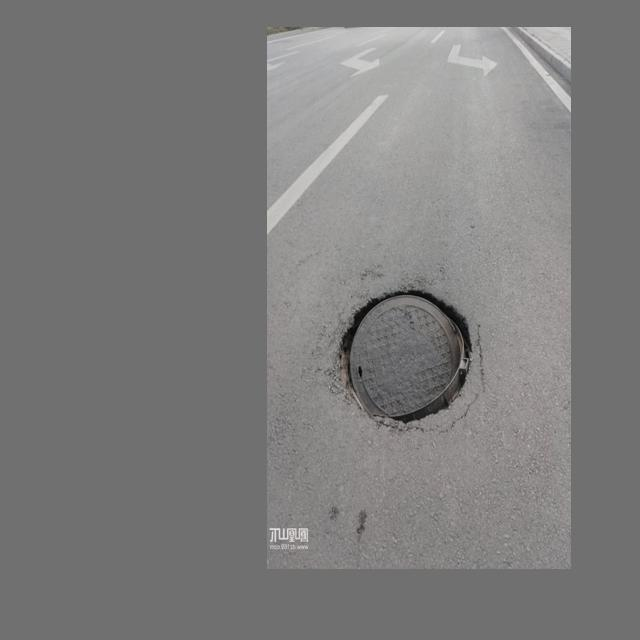circle: (324, 278, 494, 435)
